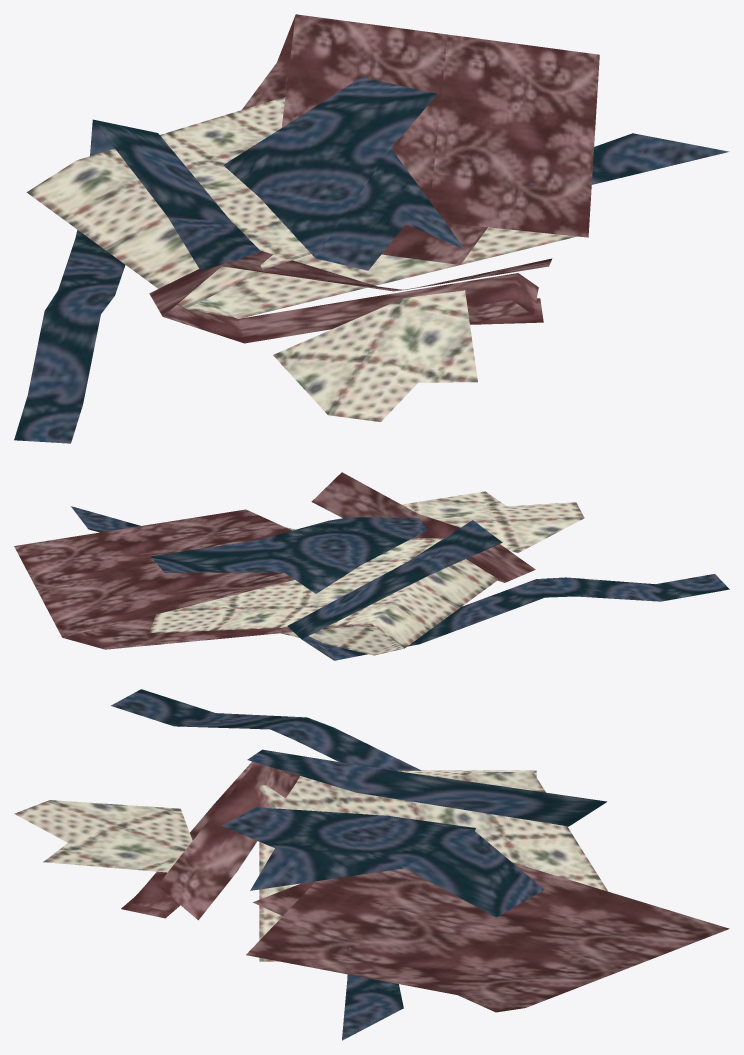
File: shop_tailor_fabricScraps01.fbx
3 renders of one model, top to bottom at view 1: azimuth 30°, elevation 25°; view 2: azimuth 150°, elevation 25°; view 3: azimuth 270°, elevation 25°, orthographic. The views are drawn at different scales.
Visible parts, largest first — view 1: fabric2.001, fabric8, fabric3.001, fabric1.001, fabric6.001, fabric.001, fabric2, fabric4, fabric3, fabric1, fabric6, fabric5.001 (+2 smaller); view 2: fabric2.001, fabric8, fabric1.001, fabric3.001, fabric2, fabric6.001, fabric.001, fabric1, fabric3, fabric4, fabric, fabric6 (+1 smaller); view 3: fabric2.001, fabric3.001, fabric1.001, fabric8, fabric.001, fabric6.001, fabric2, fabric3, fabric4, fabric1, fabric5.001, fabric (+1 smaller).
Part boxes in pixels (x1=…): fabric2.001: x1=271, y1=14, x2=599, y2=237; fabric8: x1=26, y1=96, x2=576, y2=318; fabric3.001: x1=223, y1=77, x2=464, y2=270; fabric1.001: x1=28, y1=119, x2=260, y2=404; fabric6.001: x1=273, y1=290, x2=477, y2=421; fabric.001: x1=149, y1=251, x2=552, y2=343; fabric2: x1=242, y1=14, x2=595, y2=264; fabric4: x1=35, y1=98, x2=572, y2=317; fabric3: x1=224, y1=77, x2=436, y2=268; fabric1: x1=14, y1=123, x2=259, y2=443; fabric6: x1=273, y1=300, x2=477, y2=421; fabric5.001: x1=530, y1=133, x2=729, y2=184; fabric2.001: x1=14, y1=509, x2=370, y2=649; fabric8: x1=149, y1=527, x2=498, y2=655; fabric1.001: x1=287, y1=520, x2=660, y2=660; fabric3.001: x1=151, y1=517, x2=427, y2=593; fabric2: x1=19, y1=510, x2=372, y2=649; fabric6.001: x1=401, y1=491, x2=584, y2=552; fabric.001: x1=311, y1=472, x2=535, y2=582; fabric1: x1=304, y1=520, x2=729, y2=660; fabric3: x1=151, y1=517, x2=425, y2=592; fabric4: x1=154, y1=528, x2=497, y2=654; fabric: x1=312, y1=472, x2=532, y2=581; fabric6: x1=434, y1=493, x2=581, y2=552; fabric2.001: x1=246, y1=862, x2=729, y2=1012; fabric3.001: x1=221, y1=807, x2=544, y2=917; fabric1.001: x1=175, y1=713, x2=606, y2=826; fabric8: x1=257, y1=770, x2=607, y2=961; fabric.001: x1=121, y1=761, x2=299, y2=920; fabric6.001: x1=14, y1=800, x2=192, y2=872; fabric2: x1=253, y1=881, x2=725, y2=1012; fabric3: x1=223, y1=807, x2=543, y2=916; fabric4: x1=259, y1=770, x2=606, y2=961; fabric1: x1=111, y1=689, x2=598, y2=826; fabric5.001: x1=342, y1=947, x2=403, y2=1040; fabric: x1=127, y1=764, x2=299, y2=919.
Bounding box in the file's own units: 361 × 29.05 × 309.
Materials: 1 (1 with a texture image).
